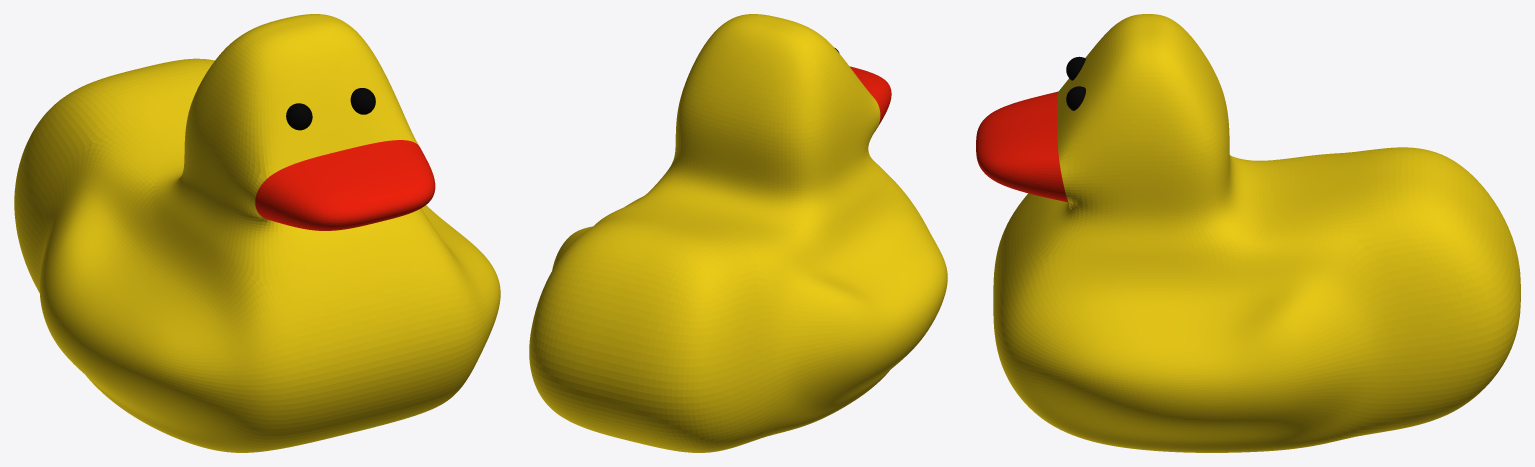
Rendered from ひよこ 1.fbx.
3 views of the same model, side by side, from view 1: azimuth 30°, elevation 25°; view 2: azimuth 150°, elevation 25°; view 3: azimuth 270°, elevation 25° (orthographic). The views are drawn at different scales.
Visible parts, largest first — view 1: Cube, Cube.001, 球; view 2: Cube, Cube.001; view 3: Cube, Cube.001, 球.
Boxes of the visible parts, left/top/right/bottom form: Cube: left=14, top=14, right=500, bottom=452; Cube.001: left=255, top=140, right=435, bottom=230; 球: left=286, top=88, right=375, bottom=130; Cube: left=529, top=14, right=947, bottom=452; Cube.001: left=849, top=66, right=891, bottom=127; Cube: left=993, top=14, right=1520, bottom=452; Cube.001: left=976, top=91, right=1068, bottom=202; 球: left=1066, top=56, right=1085, bottom=110.
Bounding box in the file's own units: 387 × 375 × 499.
